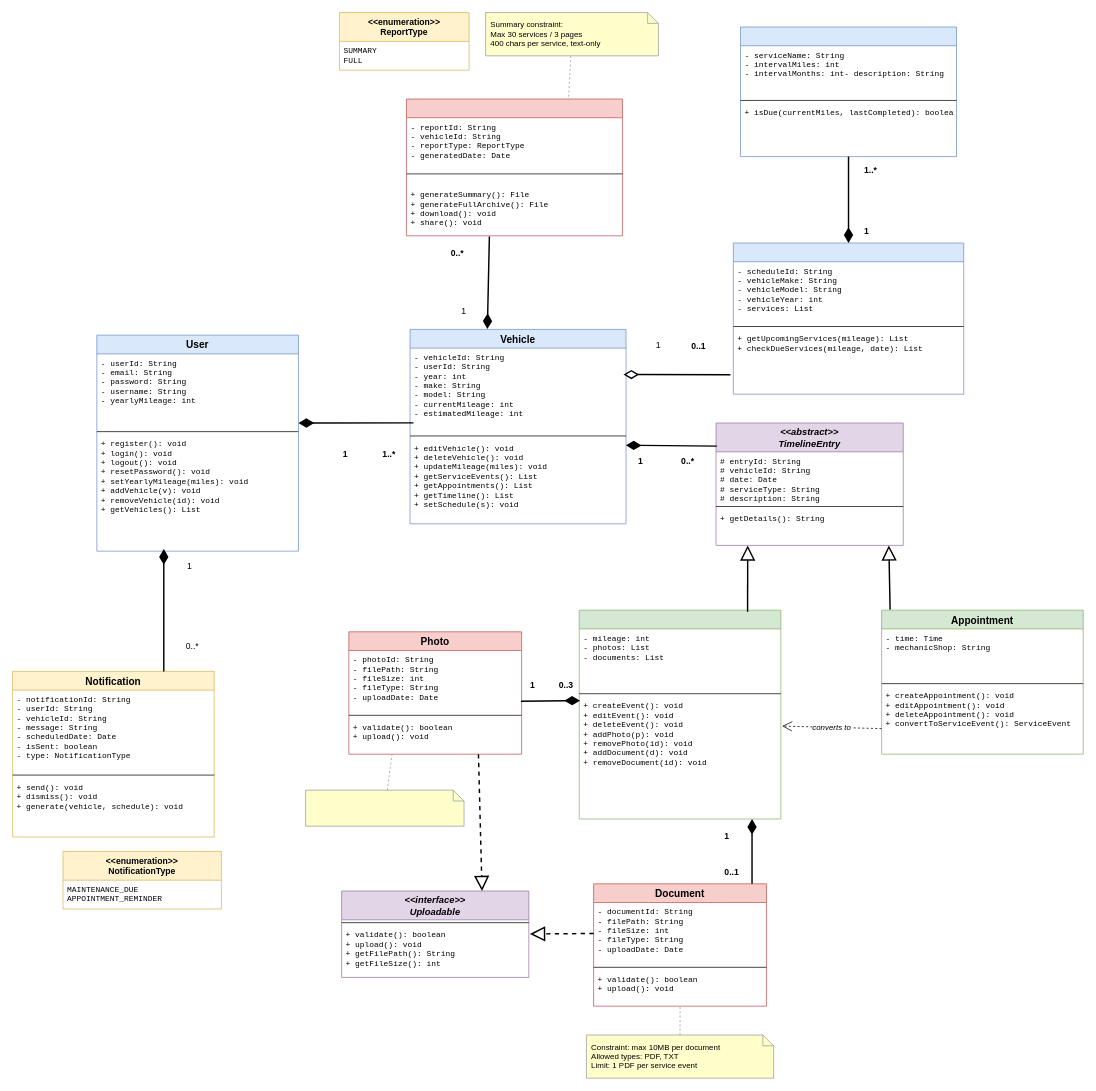
Some shapes in this 1096 by 1091 pixel diagram are drawn without their labels. Each missing label, with the box of its shape:
Constraint: max 5MB per photo Allowed types: PNG, JPEG: (305, 789, 464, 826)
MaintenanceReport: (406, 98, 622, 236)
MaintenanceSchedule: (733, 242, 964, 394)
ScheduledService: (740, 26, 957, 157)
ServiceEvent: (579, 609, 781, 819)
